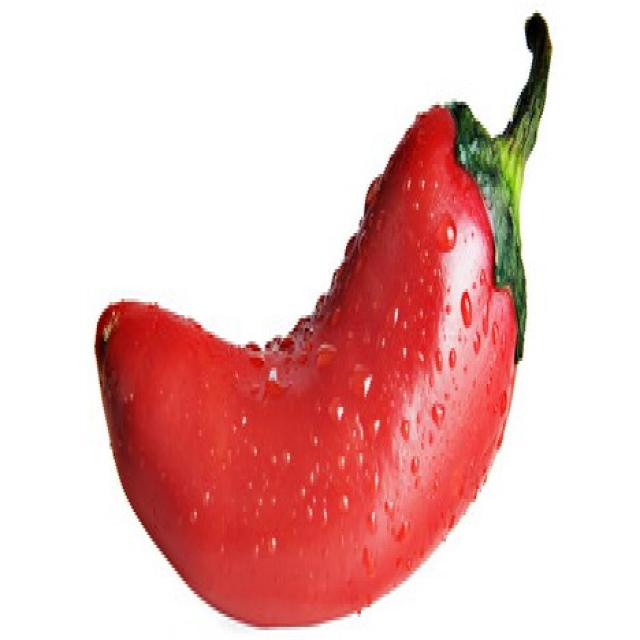chilli: (90, 93, 541, 637)
